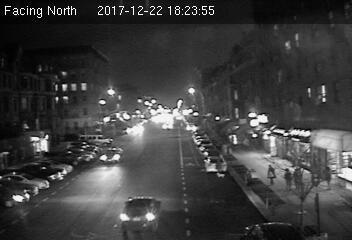car: (120, 196, 162, 228), (99, 146, 124, 163), (205, 155, 226, 172)
pedestrian: (264, 162, 277, 185)
